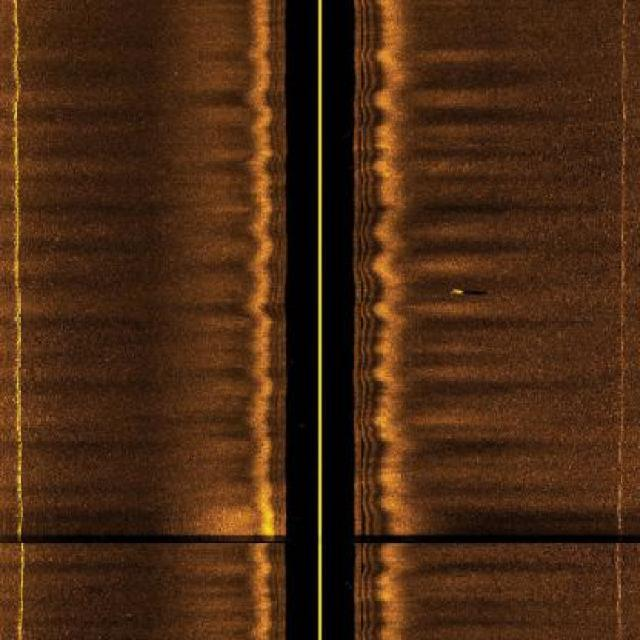mine: (447, 284, 491, 301)
